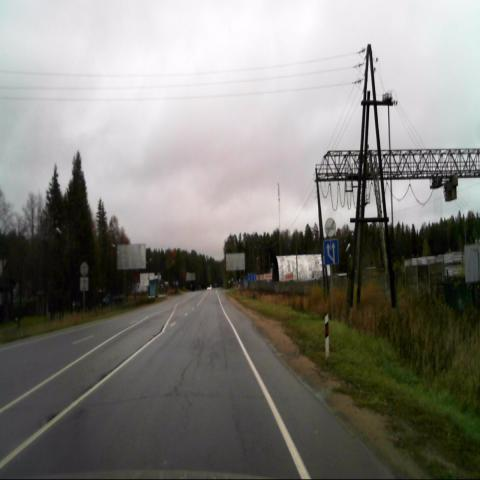3_21: (324, 217, 337, 238)
